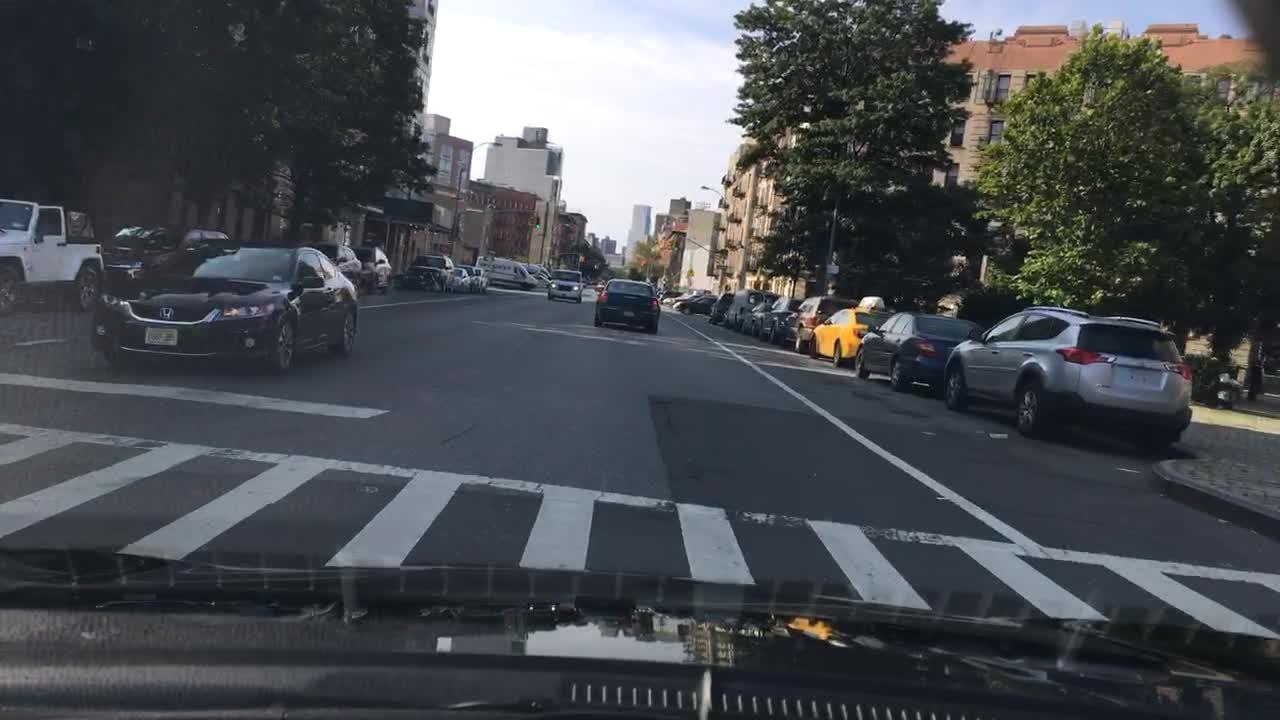Honda: (157, 304, 176, 326)
